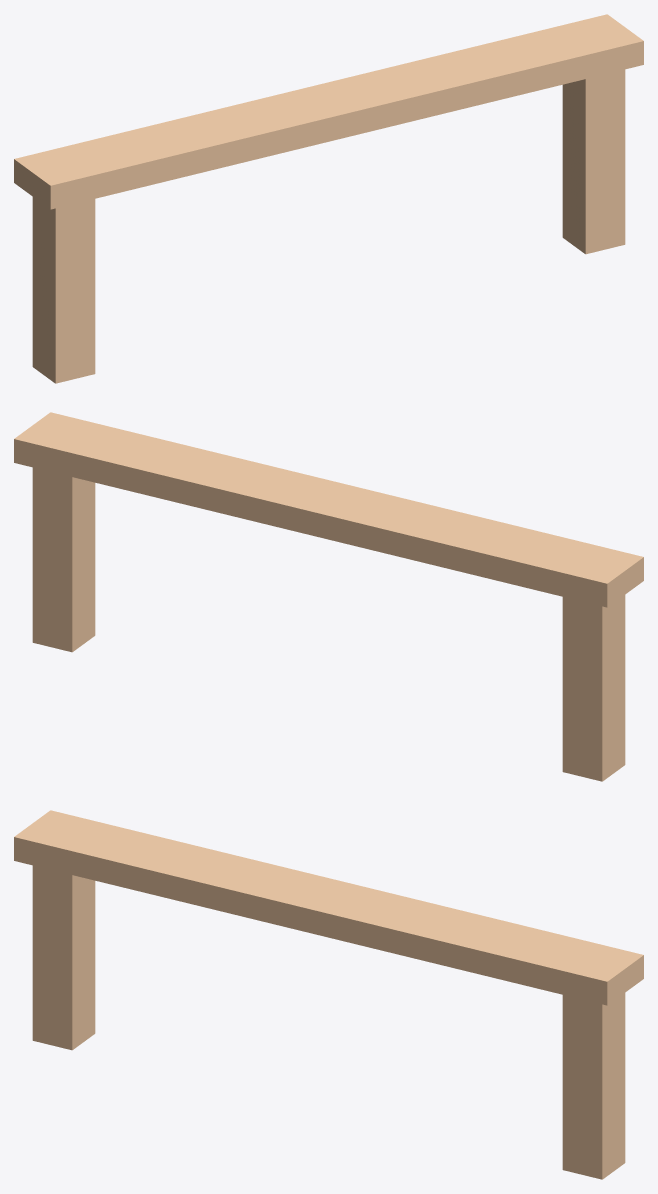
Rendered from fence_simpleHigh.glb.
3 renders of one model, top to bottom at view 1: azimuth 30°, elevation 25°; view 2: azimuth 150°, elevation 25°; view 3: azimuth 330°, elevation 25°, orthographic.
Visible parts, largest first — view 1: fence_simpleHigh; view 2: fence_simpleHigh; view 3: fence_simpleHigh.
Part boxes in pixels (x1,y1,x2,y2): fence_simpleHigh: (14, 14, 643, 383); fence_simpleHigh: (14, 412, 643, 781); fence_simpleHigh: (14, 810, 643, 1179).
Size of the model in its own units: 1.04 by 0.345 by 0.1112.
